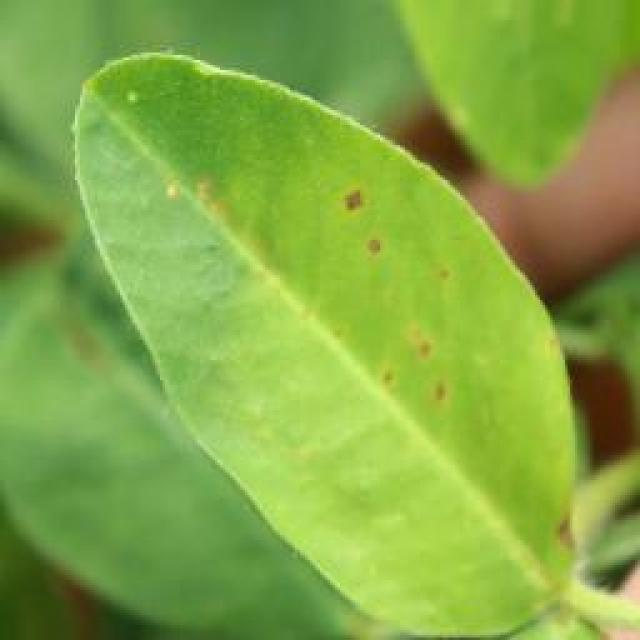Sigatoka: (344, 311, 499, 431), (300, 167, 396, 267), (540, 472, 598, 578), (153, 156, 230, 224), (419, 236, 475, 305)
